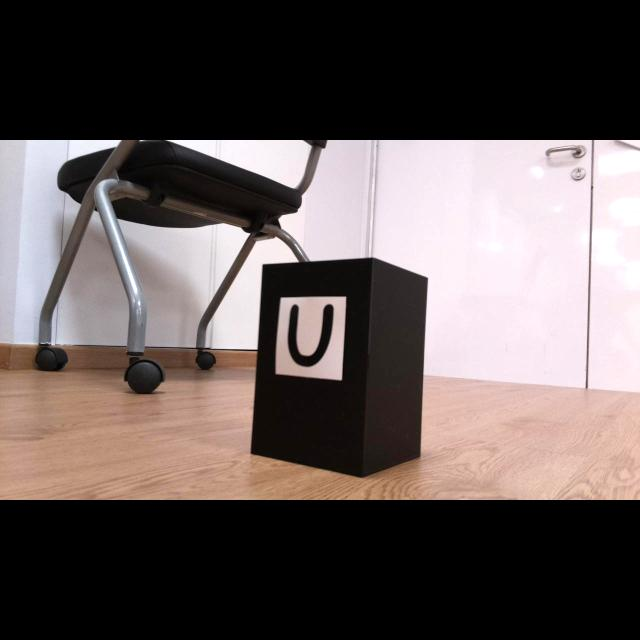U: (288, 304, 334, 368)
